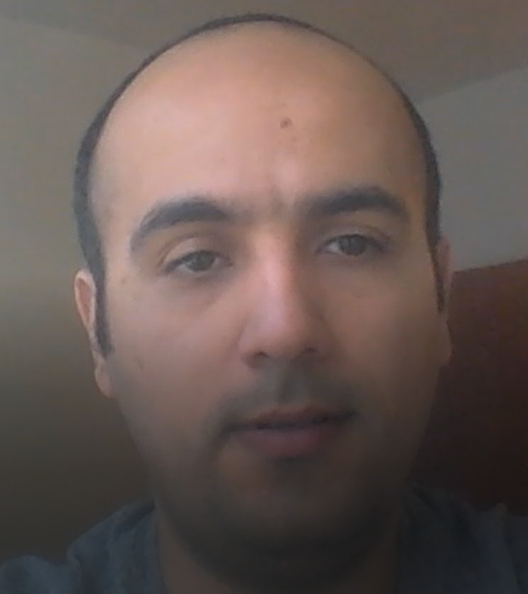Not Sleeping: (131, 185, 410, 299)
